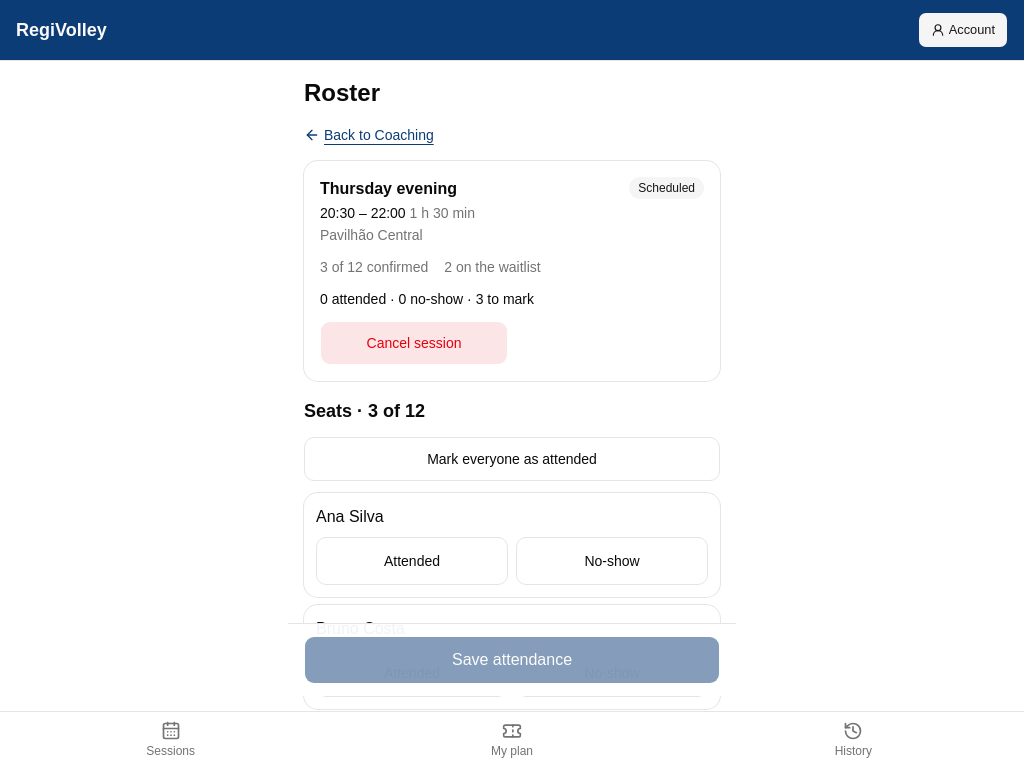
Test case: marking attendance › shows the API’s refusal, keeps what was chosen and lets the coach try again
Check: the button "Mark everyone as attended" is shown, box [304, 437, 720, 481]
Click the 1st radio button labelled "Attended": (412, 561) [316, 537, 508, 585]
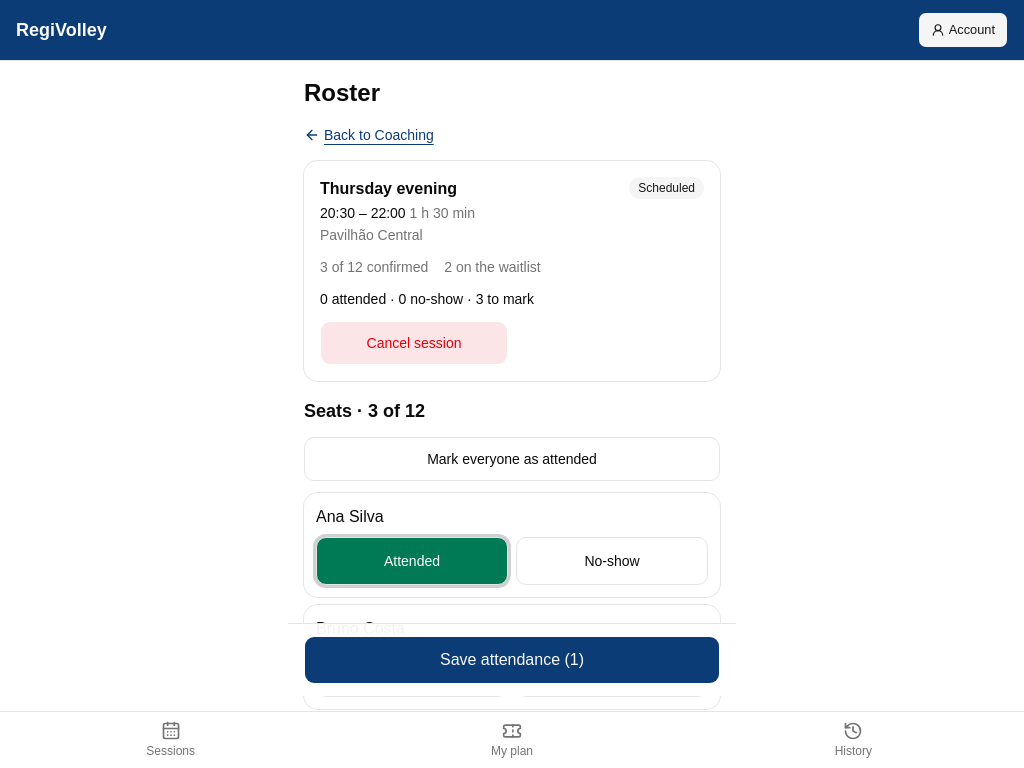
Click the button "Save attendance (1)": (512, 660) [304, 636, 720, 684]
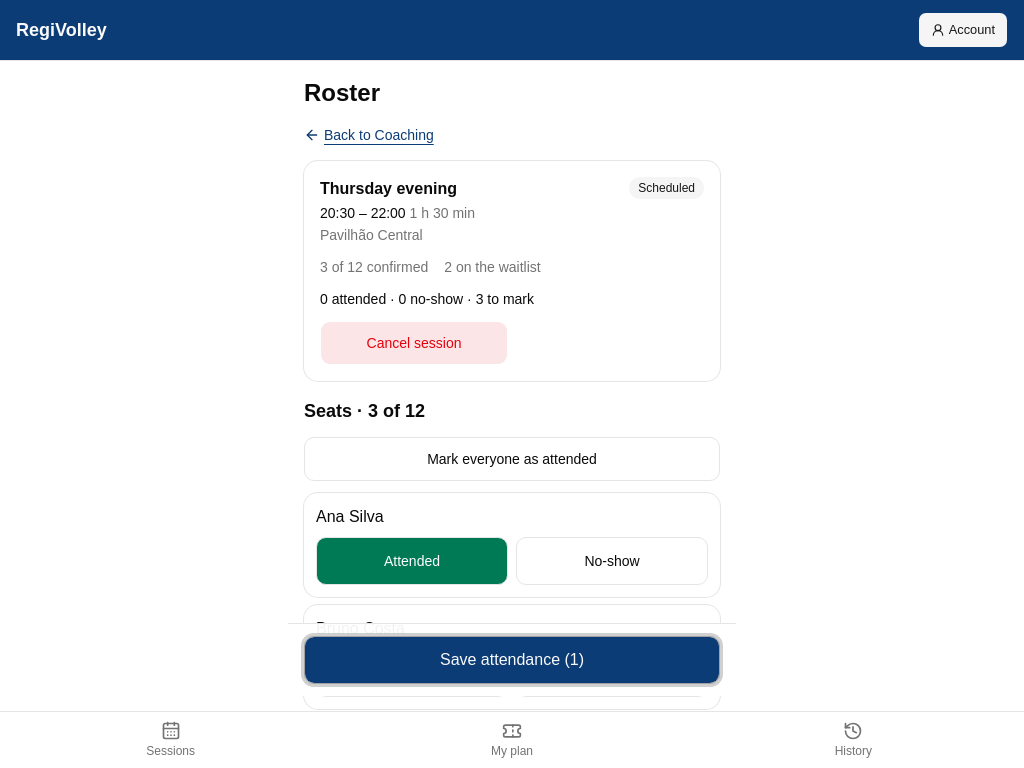
Check: the 1st radio button labelled "Attended" is checked, box [316, 537, 508, 585]
Click the button "Save attendance (1)": (512, 660) [304, 636, 720, 684]
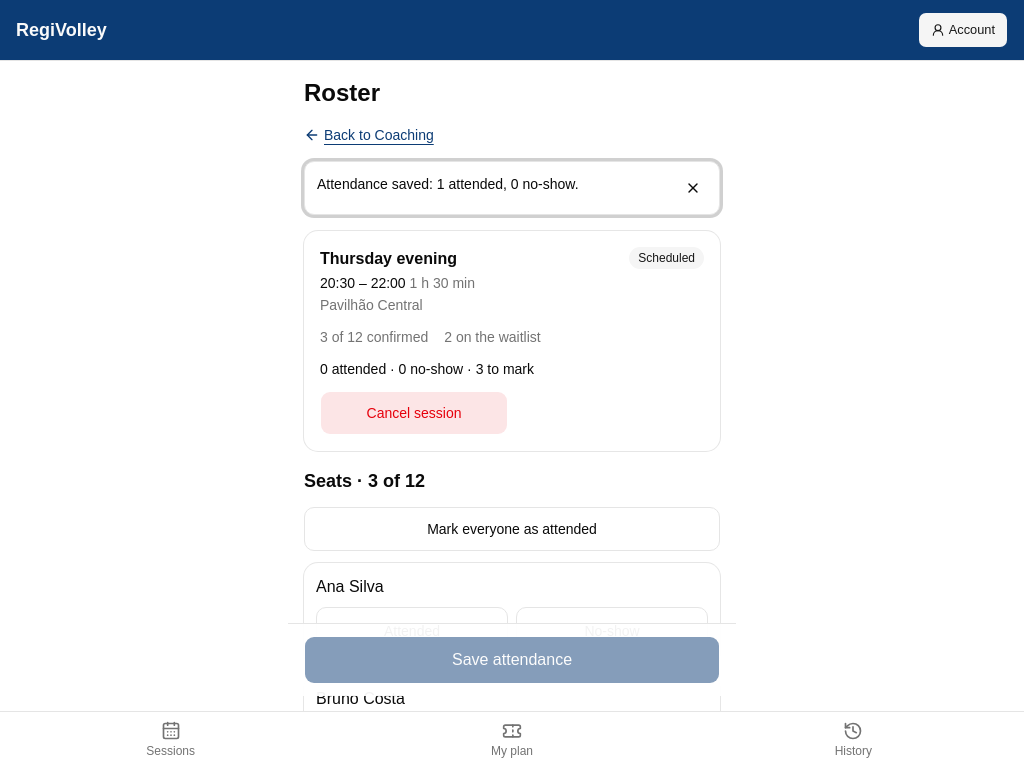
Check: the message shows "Attendance saved", box [317, 176, 578, 192]
